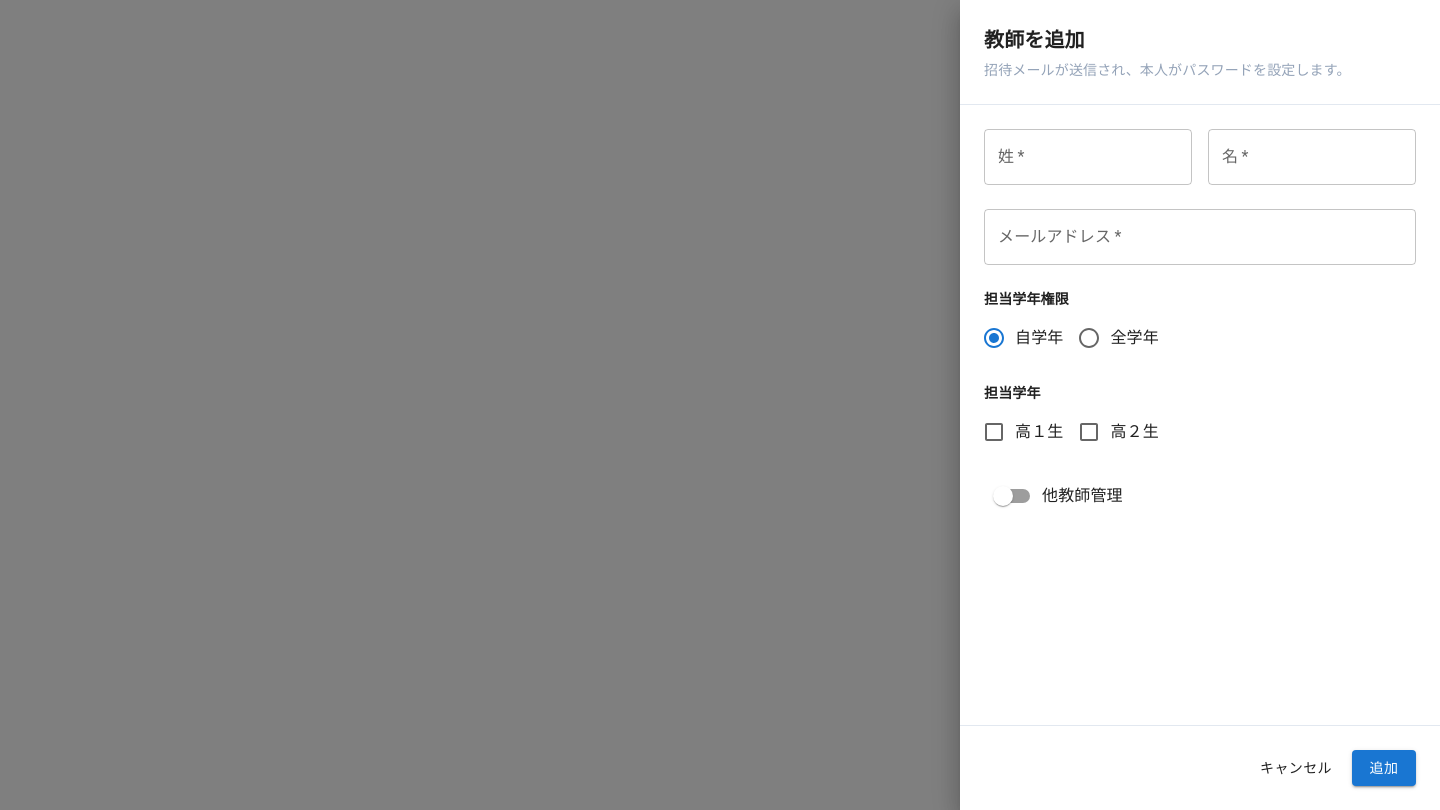
TeacherDrawer › 新規追加モード › 必須項目が未入力だとonSubmitが呼ばれずエラーが表示される
This screenshot has width=1440, height=810.
Click the button "追加". click: (1384, 768)
box: [1352, 750, 1416, 786]
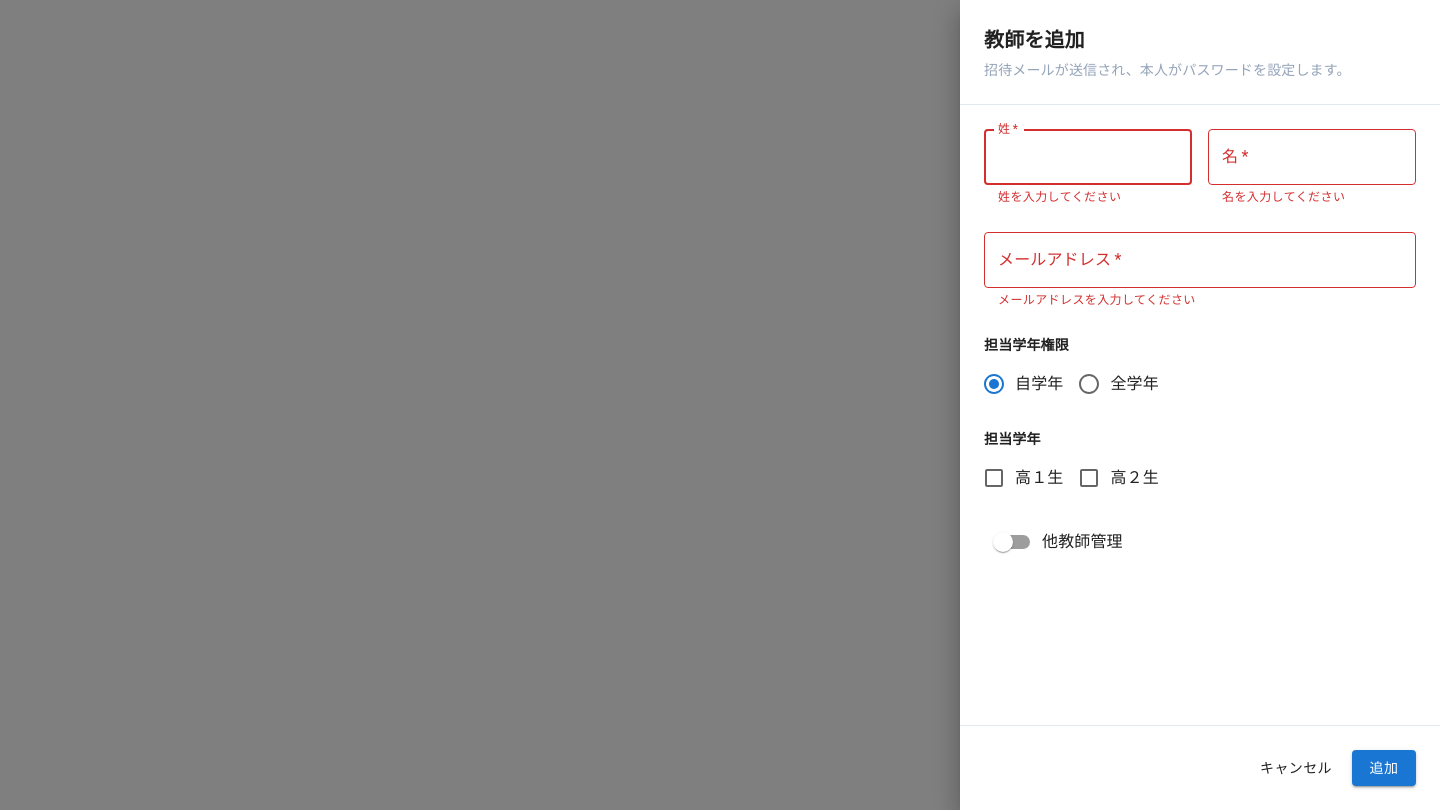
Now the text "姓を入力してください" is shown, box [998, 190, 1121, 204]
